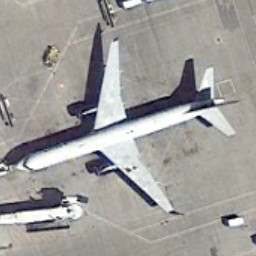Airplane: (12, 33, 240, 224)
